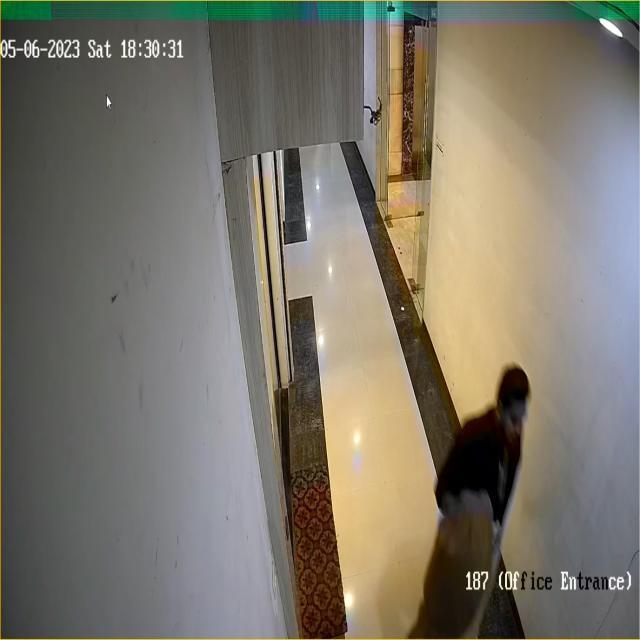gunny_bag: (406, 496, 496, 638)
